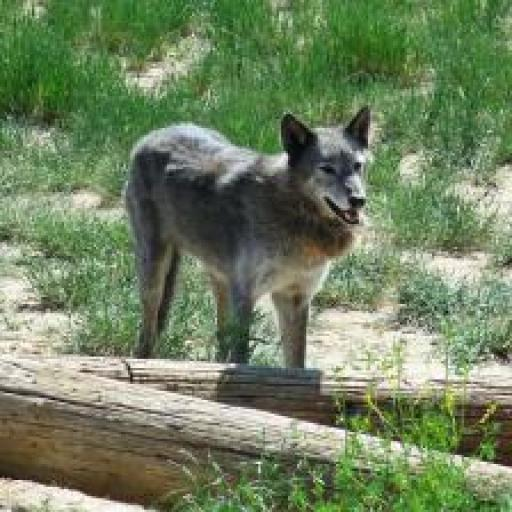wolf: (126, 101, 377, 370)
